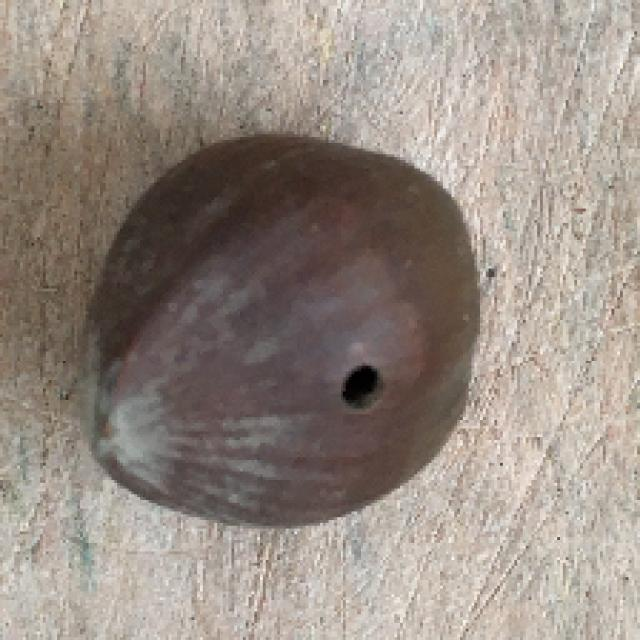damagedHazelnut: (83, 124, 493, 536)
